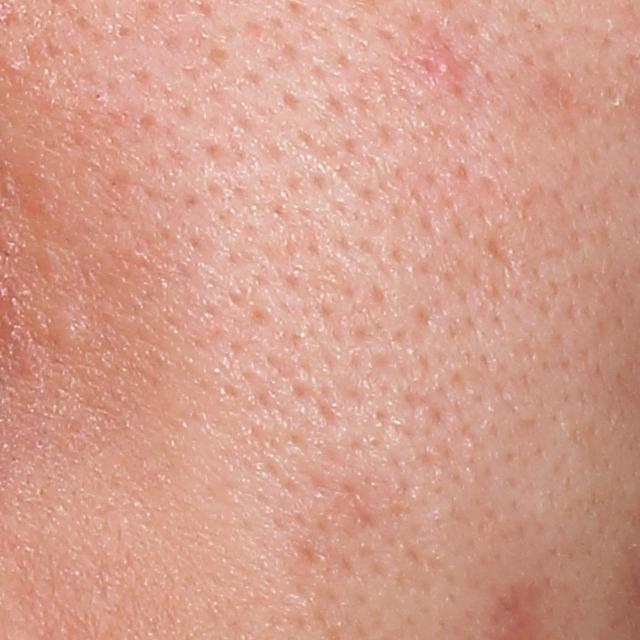atrophic_scar: (482, 229, 522, 287)
comedo: (47, 304, 89, 344)
